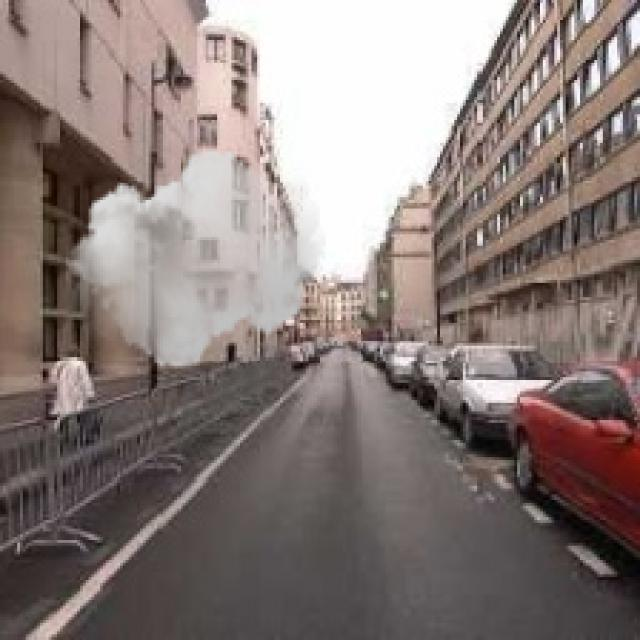Smoke: (66, 140, 326, 377)
